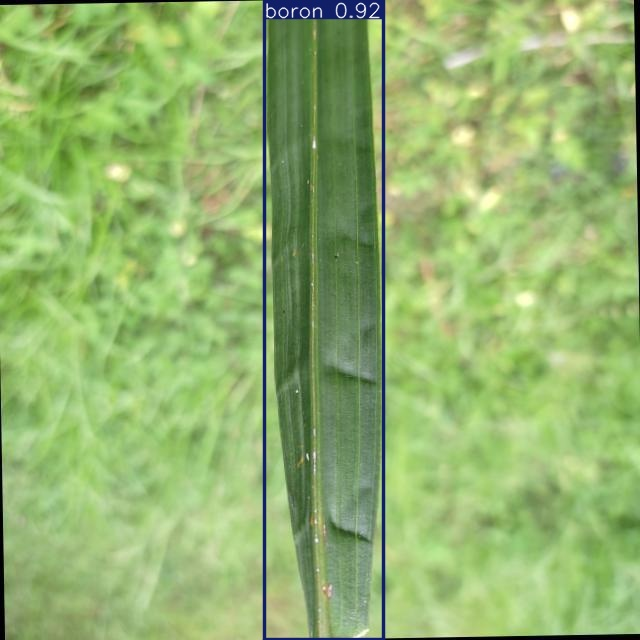nitrogen: (265, 0, 383, 639)
